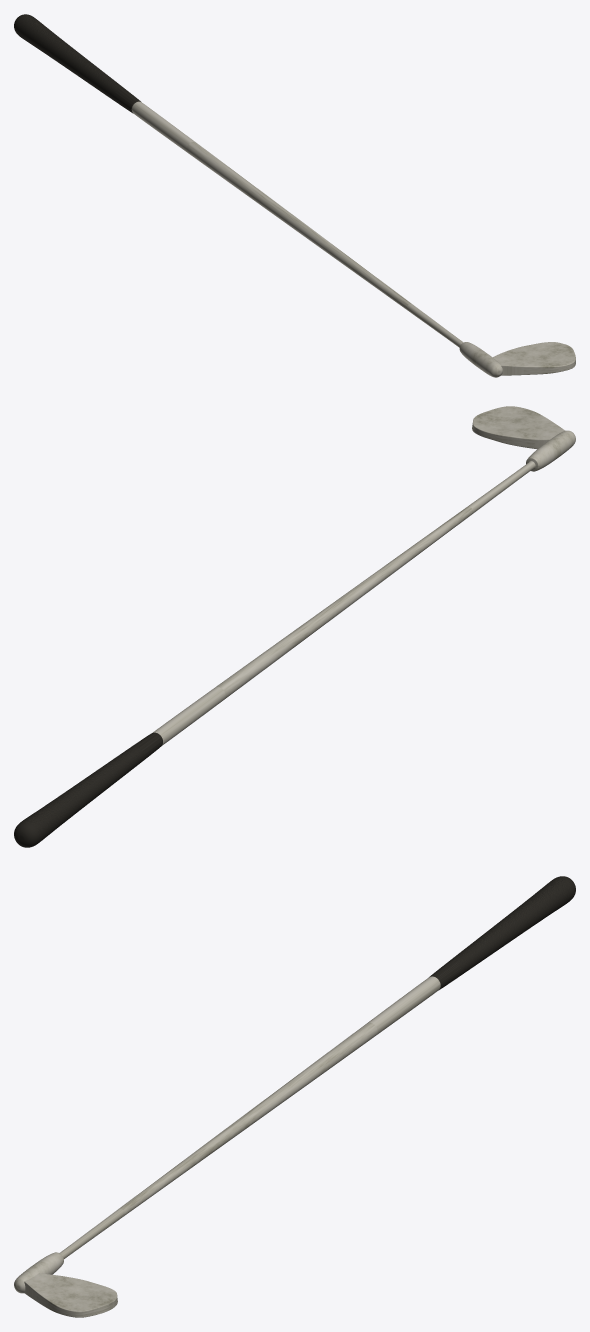
Rendered from Golfclub.fbx.
3 views of the same model, one above another, from view 1: azimuth 30°, elevation 25°; view 2: azimuth 150°, elevation 25°; view 3: azimuth 330°, elevation 25° (orthographic). The views are drawn at different scales.
Parts seen in each view (by area): view 1: golfclub; view 2: golfclub; view 3: golfclub.
Part boxes in pixels (x1,y1,x2,y2): golfclub: (14, 14, 575, 377); golfclub: (14, 406, 575, 847); golfclub: (14, 876, 575, 1317).
Bounding box in the file's own units: 251 × 59.65 × 2437.
2 materials, 2 textured.
